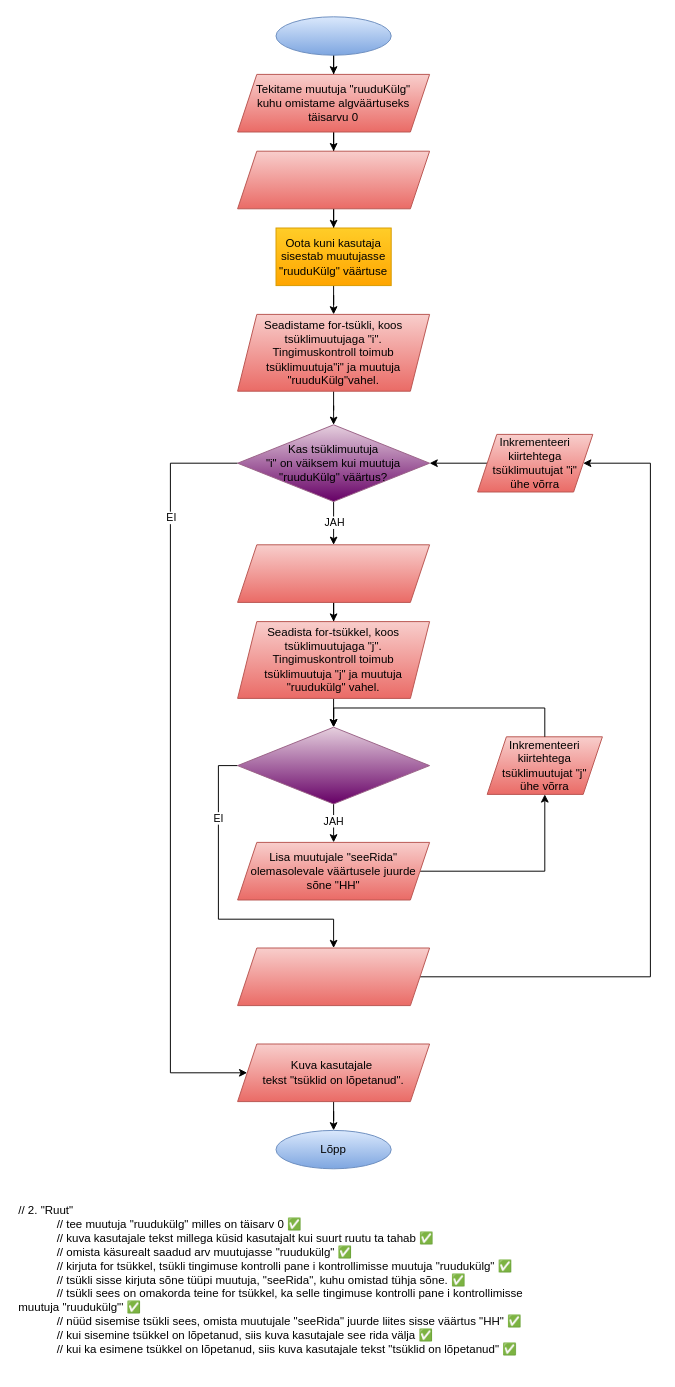
This 675x1387 diagram has some shape labels left out. The shapes that lost their labels are listed below. From the top down, each one's centre as x and y in pixels, then its label:
(333,35): Algus
(333,179): Kuva kasutajale tekst "Kui suurt ruutu tahad näha?"
(333,573): Tekita muutuja "seeRida" millele omistame algväärtuseks "".
(333,765): Kas tsüklimuutuja "j" on väiksem kui muutuja "ruuduKülg" väärtus?
(333,976): Kuva kasutajale muutuja "seeRida".
